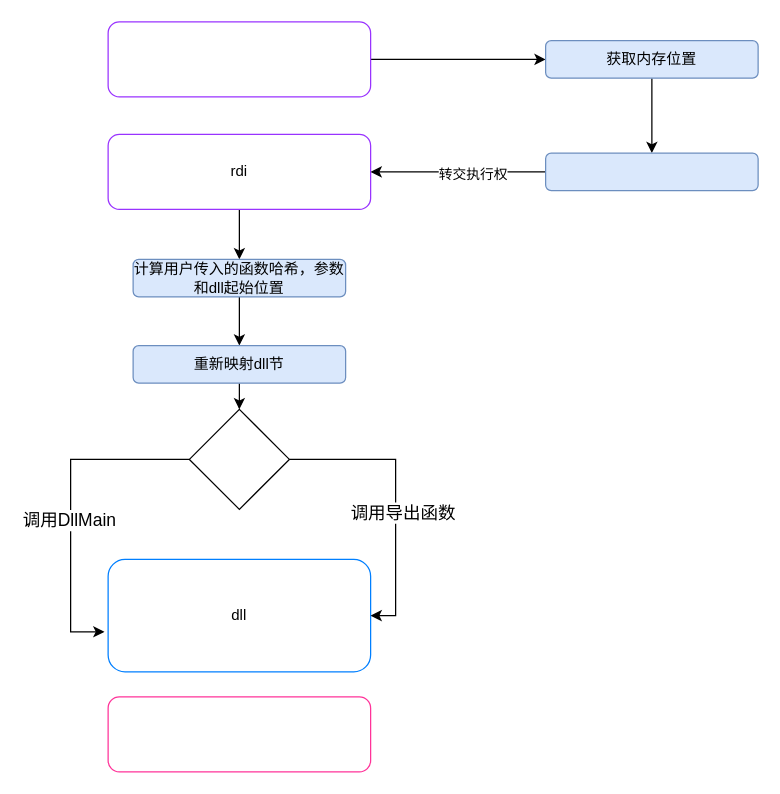
The diagram is 780 pixels wide and 794 high, and some of its shapes have lost their labels. Each missing label, with the centre of its shape:
bootstarp: pixel 239 59
user data: pixel 239 734
设置和计算寄存器: pixel 651 171
